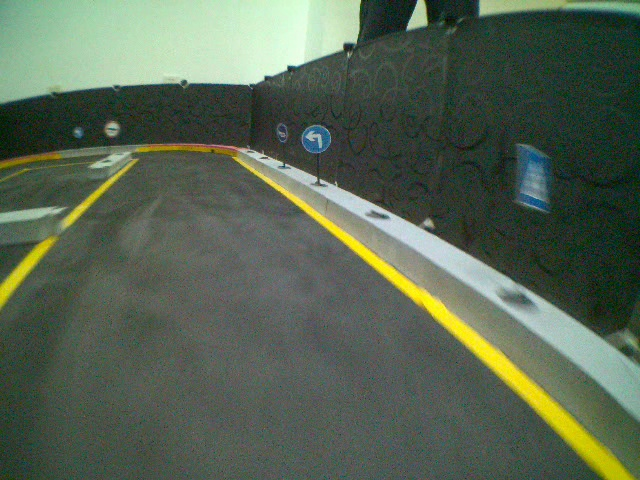Check: (104, 117, 126, 139)
horn: (271, 120, 292, 150)
turn: (299, 123, 338, 156)
